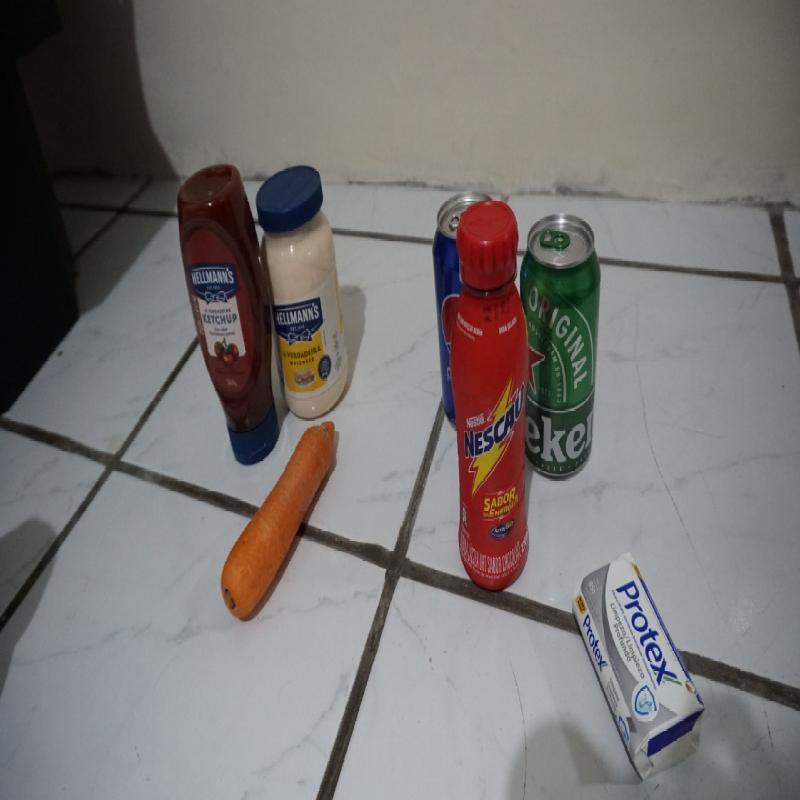Beer can: (527, 215, 602, 480)
Carrot: (184, 423, 339, 618)
Chocolate Milk: (450, 204, 530, 585)
Ketchup: (177, 165, 276, 458)
Mayonnaise: (257, 163, 352, 418)
Soap: (575, 552, 704, 774)
Soda can: (431, 202, 457, 430)
